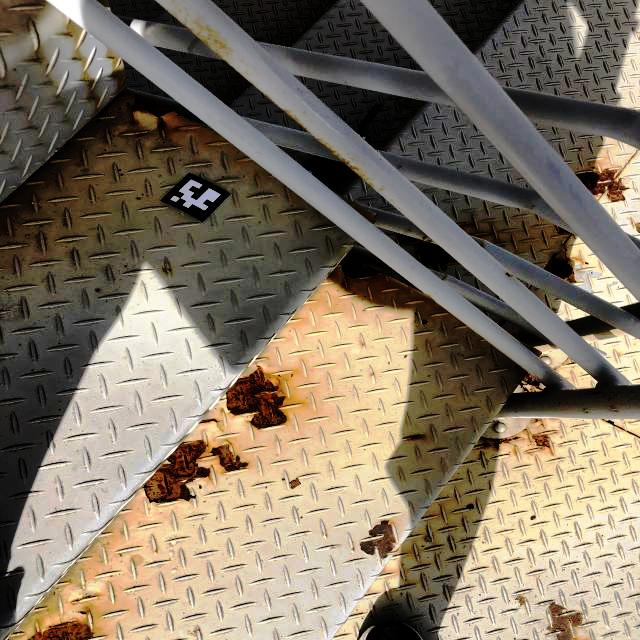Corrosion: (247, 80, 374, 188), (142, 439, 212, 504), (226, 364, 288, 430), (575, 152, 638, 202), (172, 10, 233, 61), (397, 233, 457, 271), (129, 93, 175, 133), (22, 620, 97, 640), (546, 601, 584, 640), (340, 256, 385, 288), (360, 520, 396, 559), (544, 253, 584, 283), (209, 443, 249, 472), (482, 435, 520, 451), (522, 372, 543, 389), (531, 434, 552, 451), (94, 106, 110, 118), (70, 595, 92, 603), (515, 594, 526, 606), (561, 357, 577, 365), (631, 219, 640, 233), (532, 418, 545, 427), (557, 227, 572, 234), (198, 420, 219, 424), (411, 435, 423, 440), (77, 611, 88, 615), (506, 272, 513, 278), (442, 274, 448, 280), (379, 186, 385, 192), (479, 243, 484, 249), (351, 547, 354, 552), (330, 546, 335, 549), (423, 236, 426, 239), (428, 240, 432, 242), (578, 148, 582, 150), (325, 533, 327, 537)
